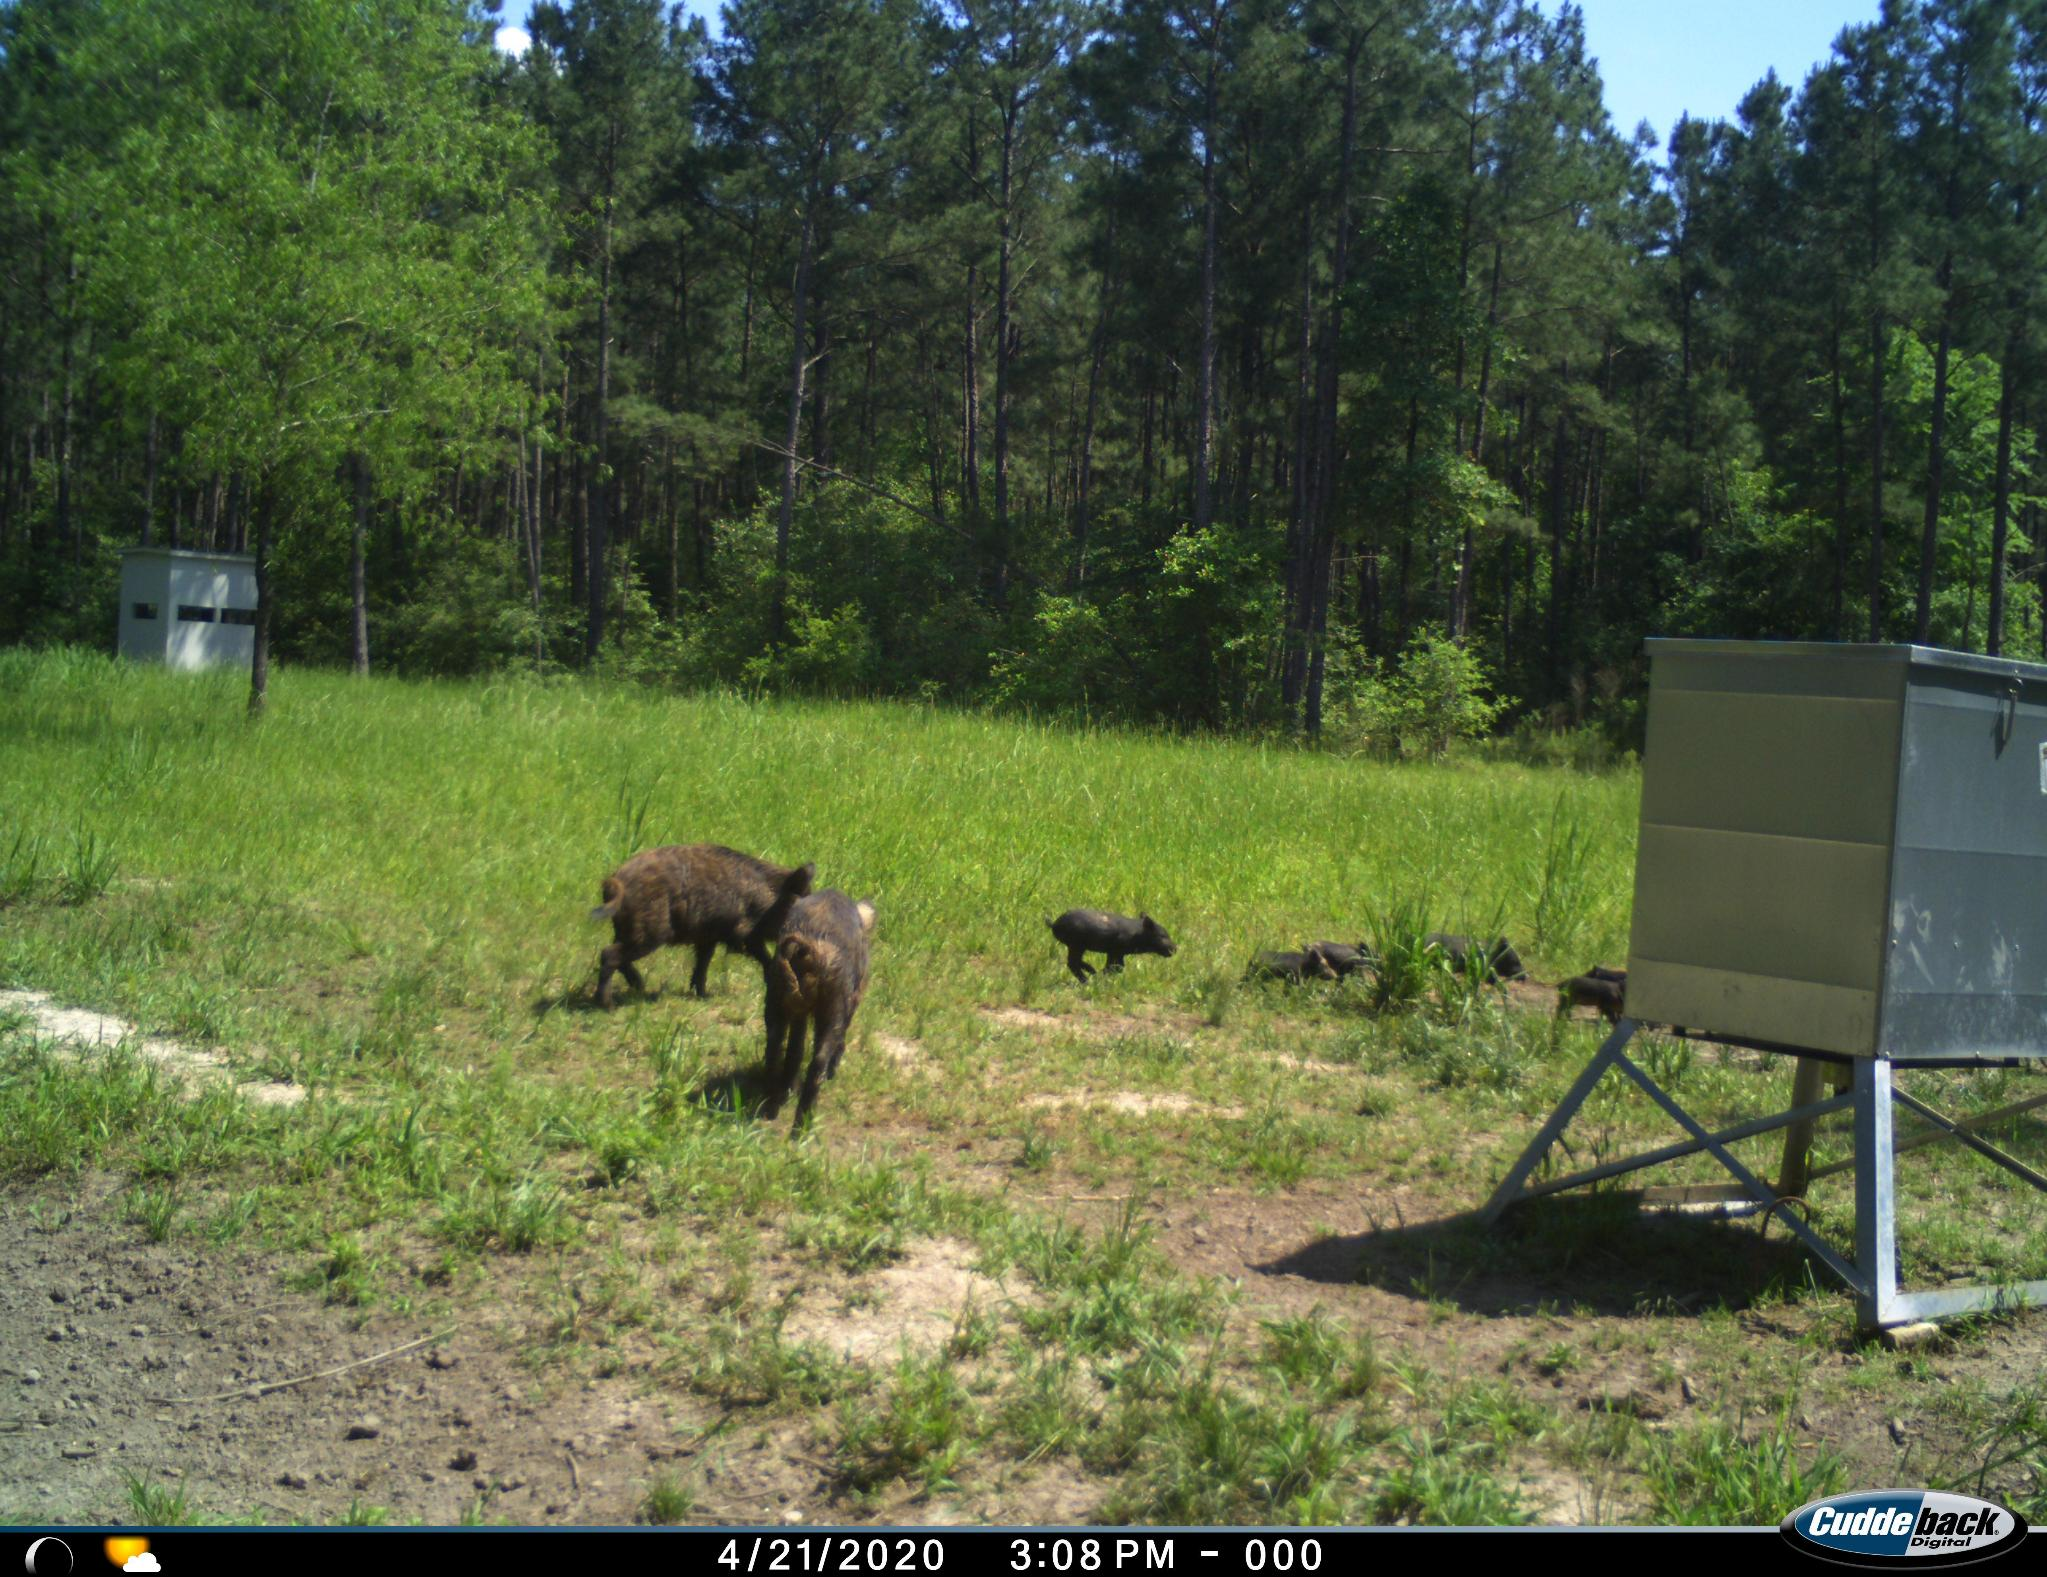Hog: (586, 837, 813, 997), (762, 891, 876, 1126), (1043, 901, 1178, 982), (1413, 924, 1532, 987), (1249, 944, 1323, 996), (1557, 966, 1625, 1022)
